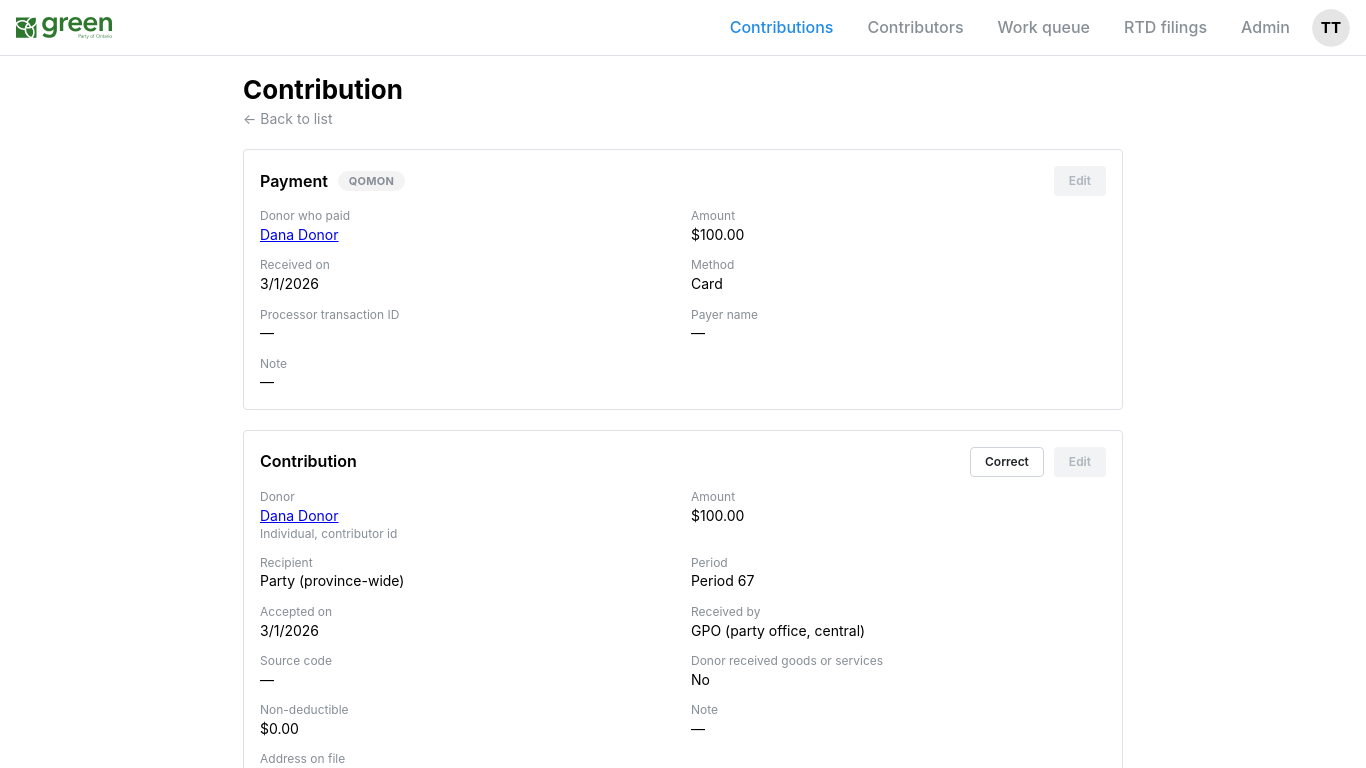
Test: editing an input after a preview discards it, so the commit is always what was previewed
Click the button "Correct". click: (1007, 462)
box: [970,447,1044,477]
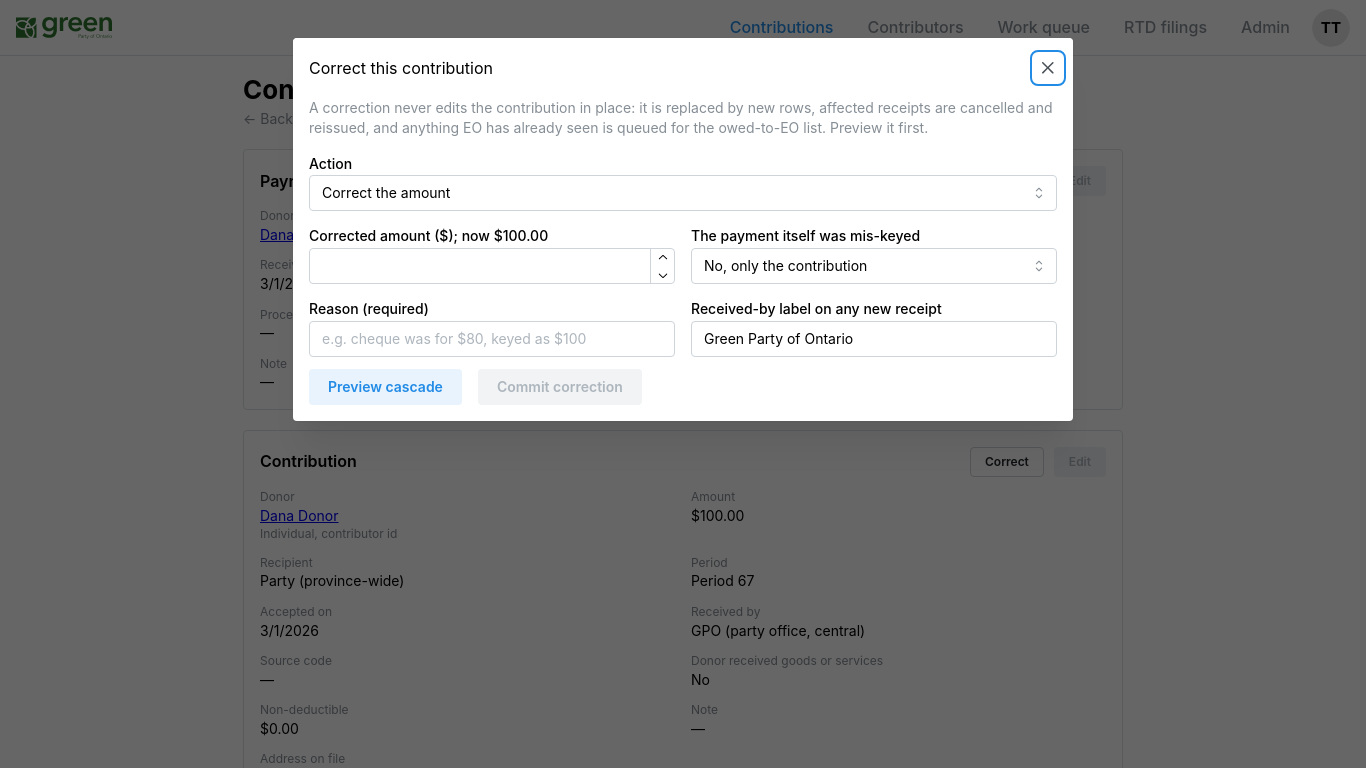
Expected: the heading "Correct this contribution" is shown, [309,60,493,76]
Type "80" into the field labelled "Corrected amount ($); now $100.00". click: (492, 267)
box: [309,249,675,285]
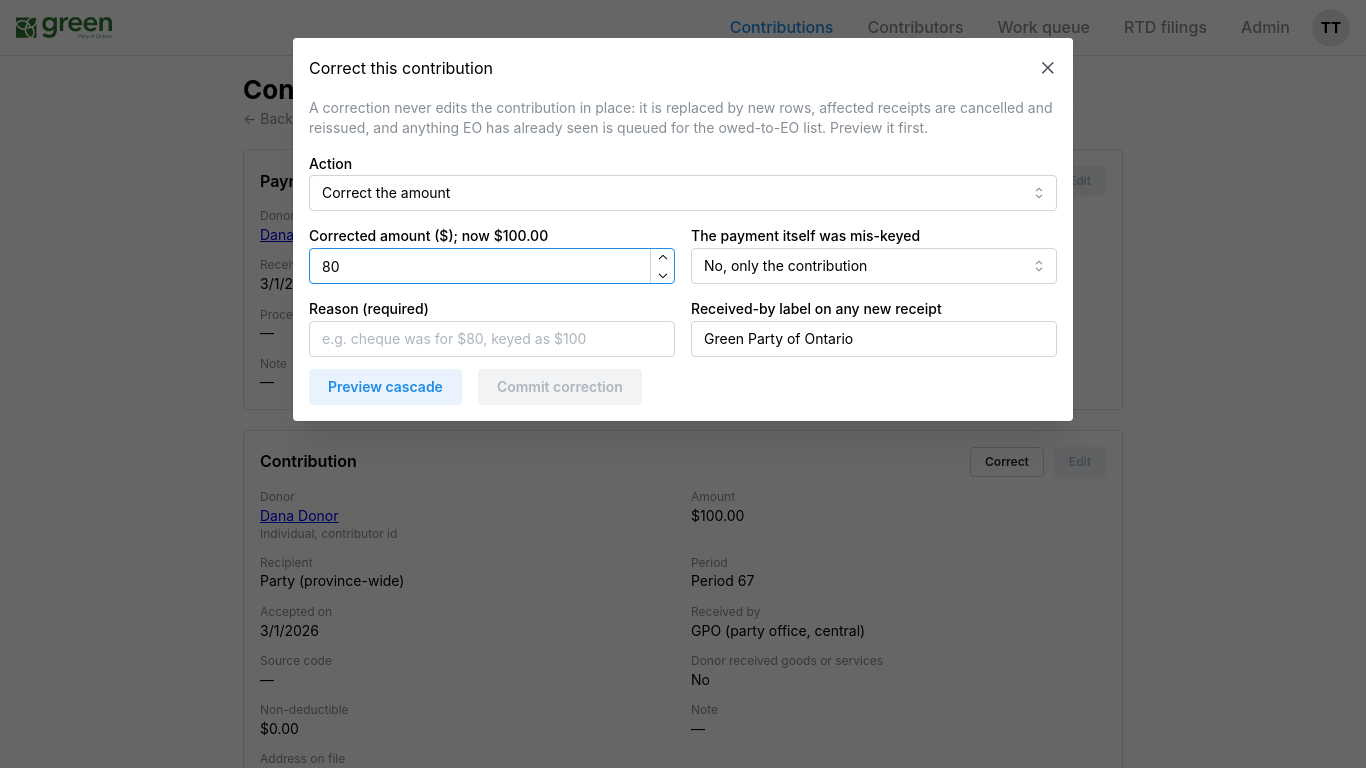
Type "fix" into the field with placeholder "e.g. cheque was for $80, keyed as $100". click: (492, 339)
box: [309,321,675,357]
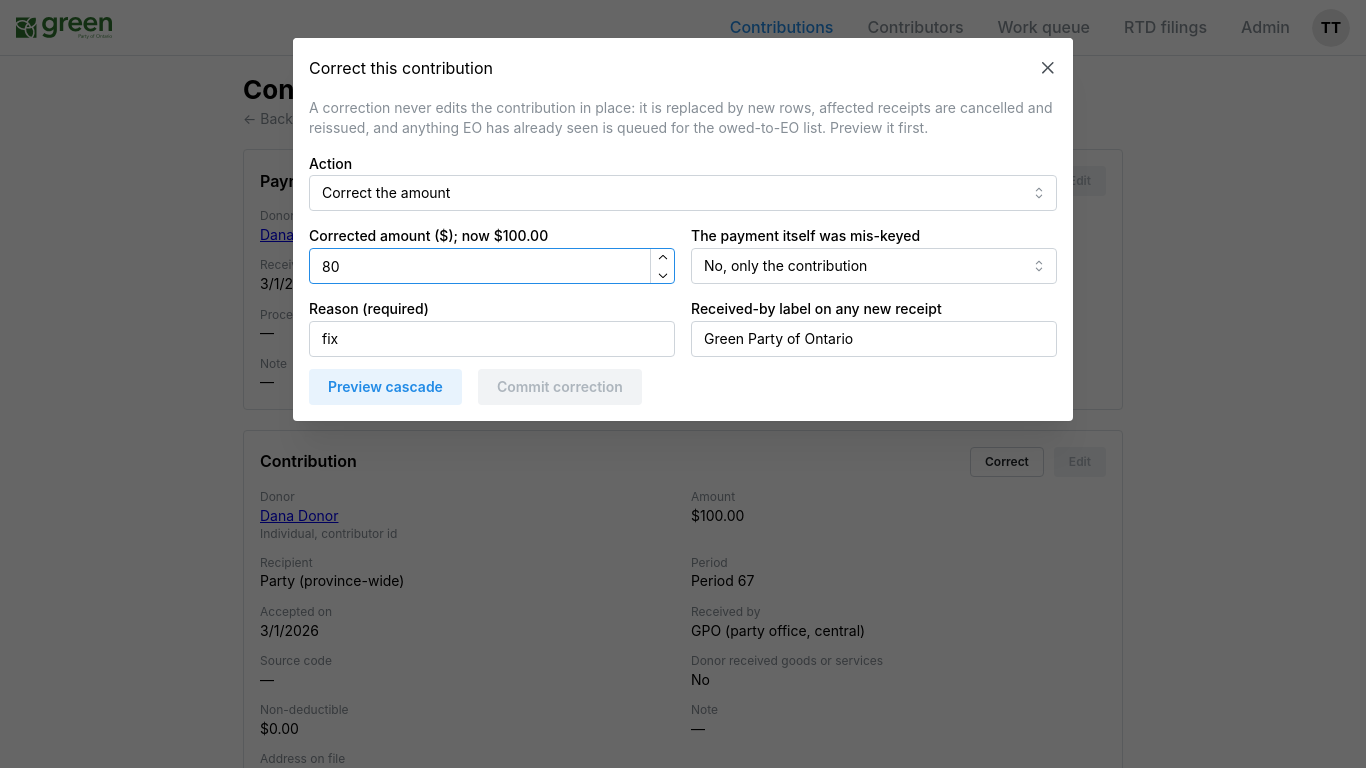
Click the button "Preview cascade". click: (385, 387)
box: [309,369,462,405]
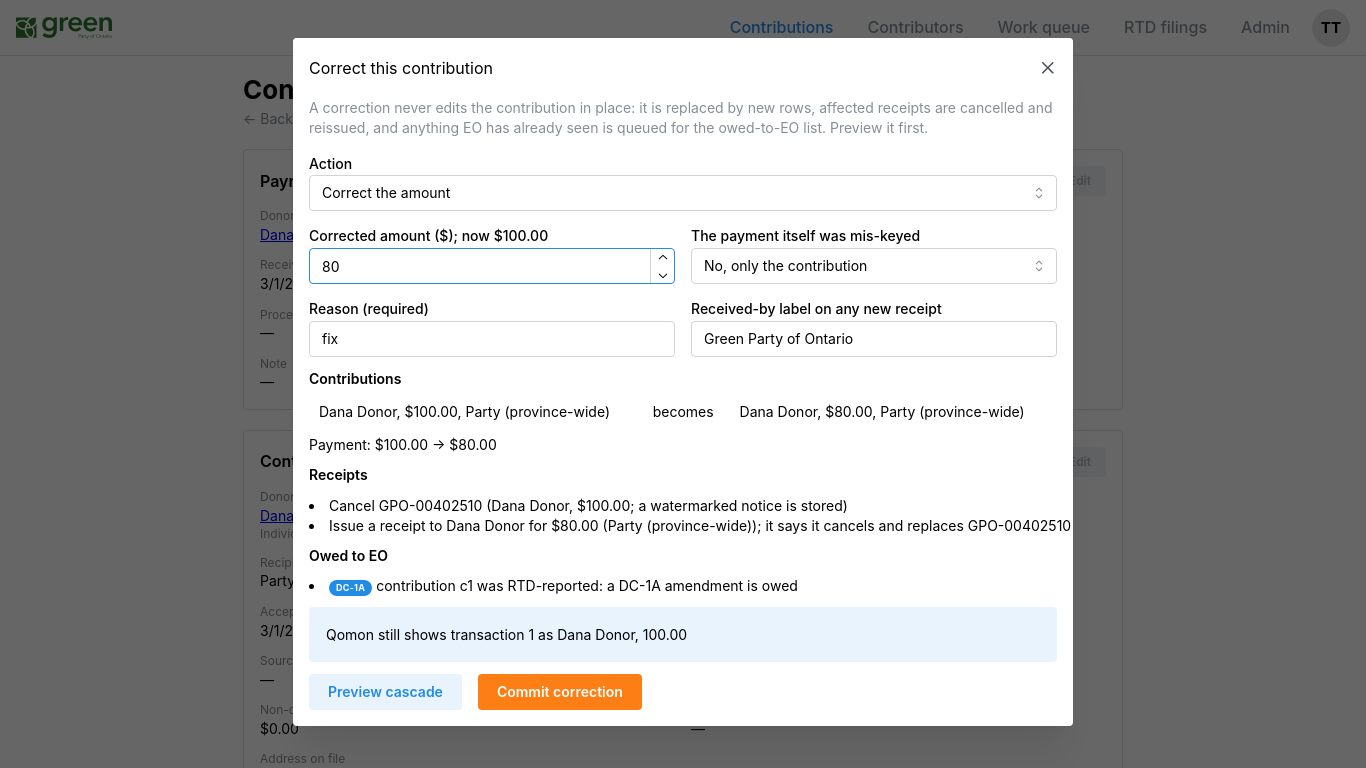
Expected: the text "Cancel GPO-00402510" is shown, [329,496,848,516]
Replace the text in the field labelled "Corrected amount ($); now $100.00" with "70". click: (492, 267)
box: [309,249,675,285]
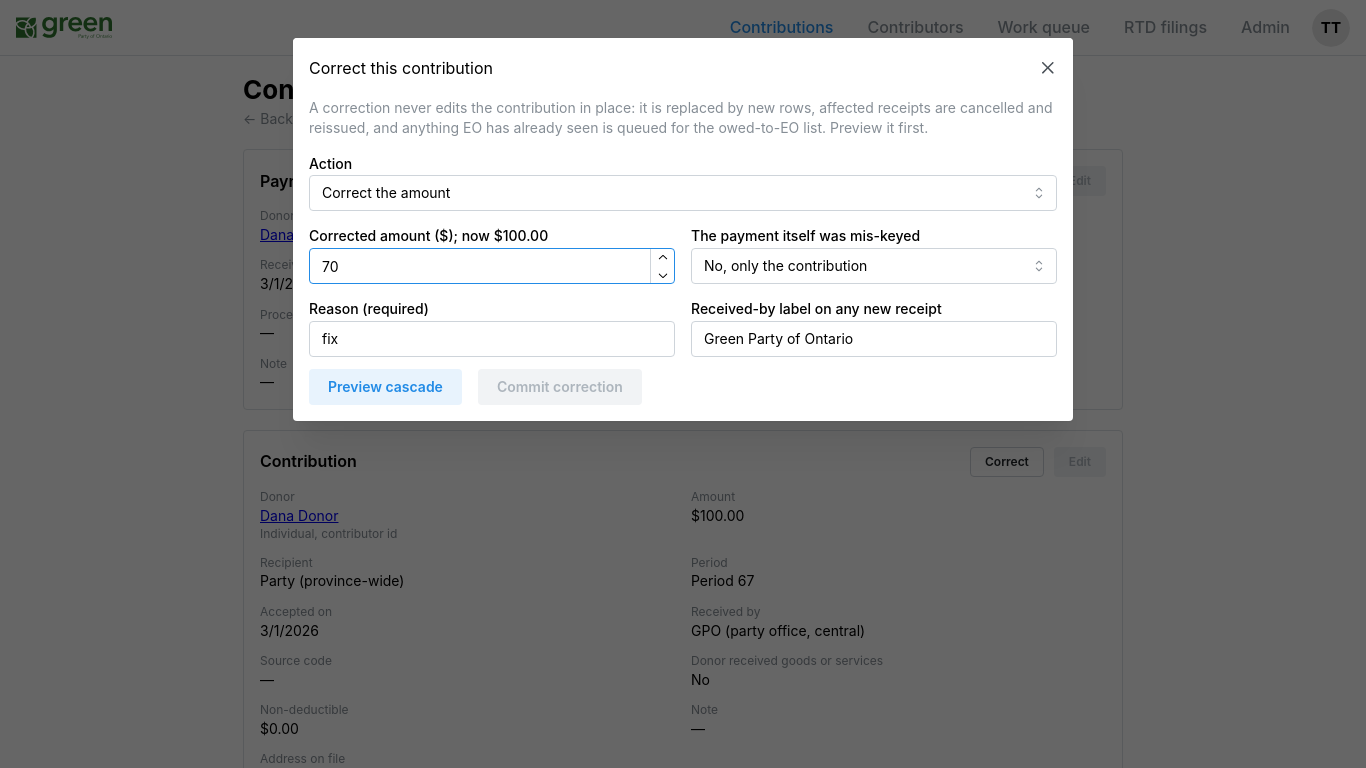
Expected: the text "Cancel GPO-00402510" is gone
Expected: the button "Commit correction" is disabled, [478,369,642,405]
